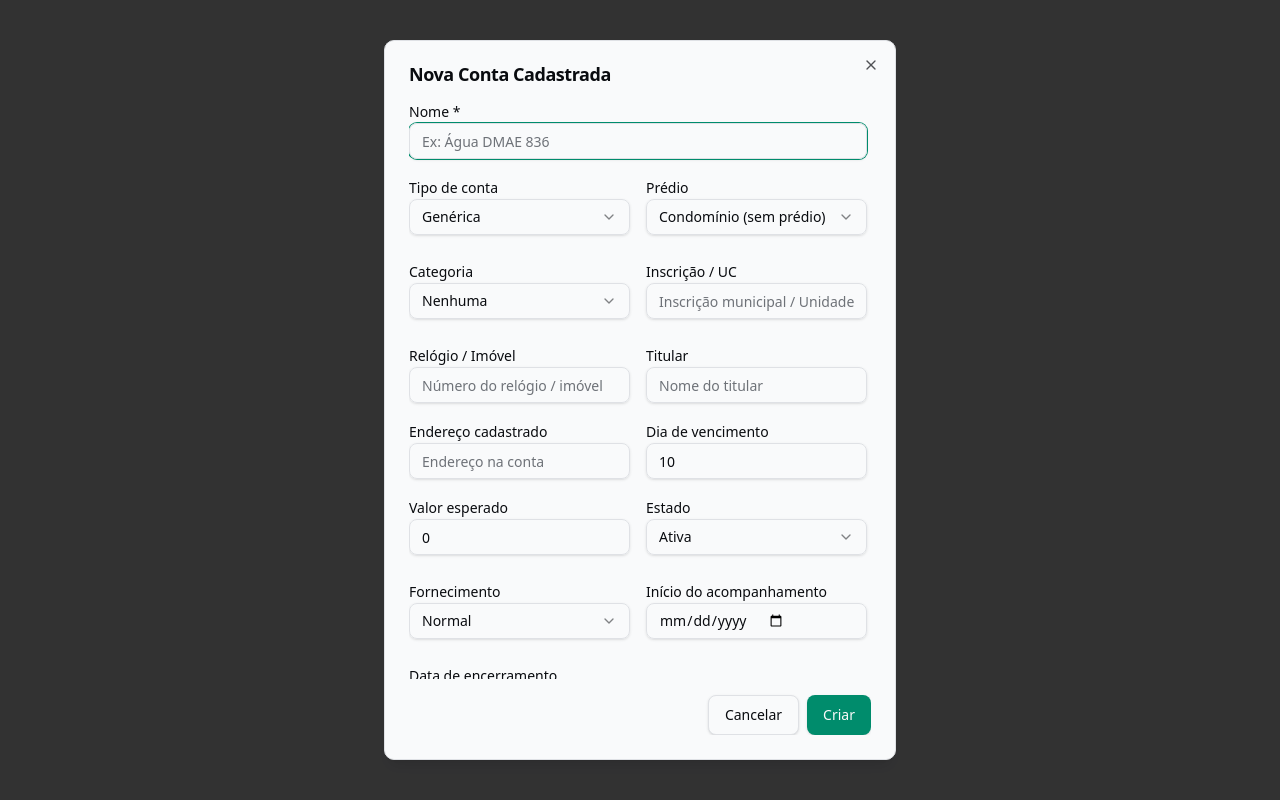
Test: AccountFormModal › rejeita external_identifier vazio para water/electricity/iptu com mensagem PT
Type "Água DMAE 836" into the field with placeholder "Ex: Água DMAE 836" at (638, 141), box [409, 123, 867, 159]
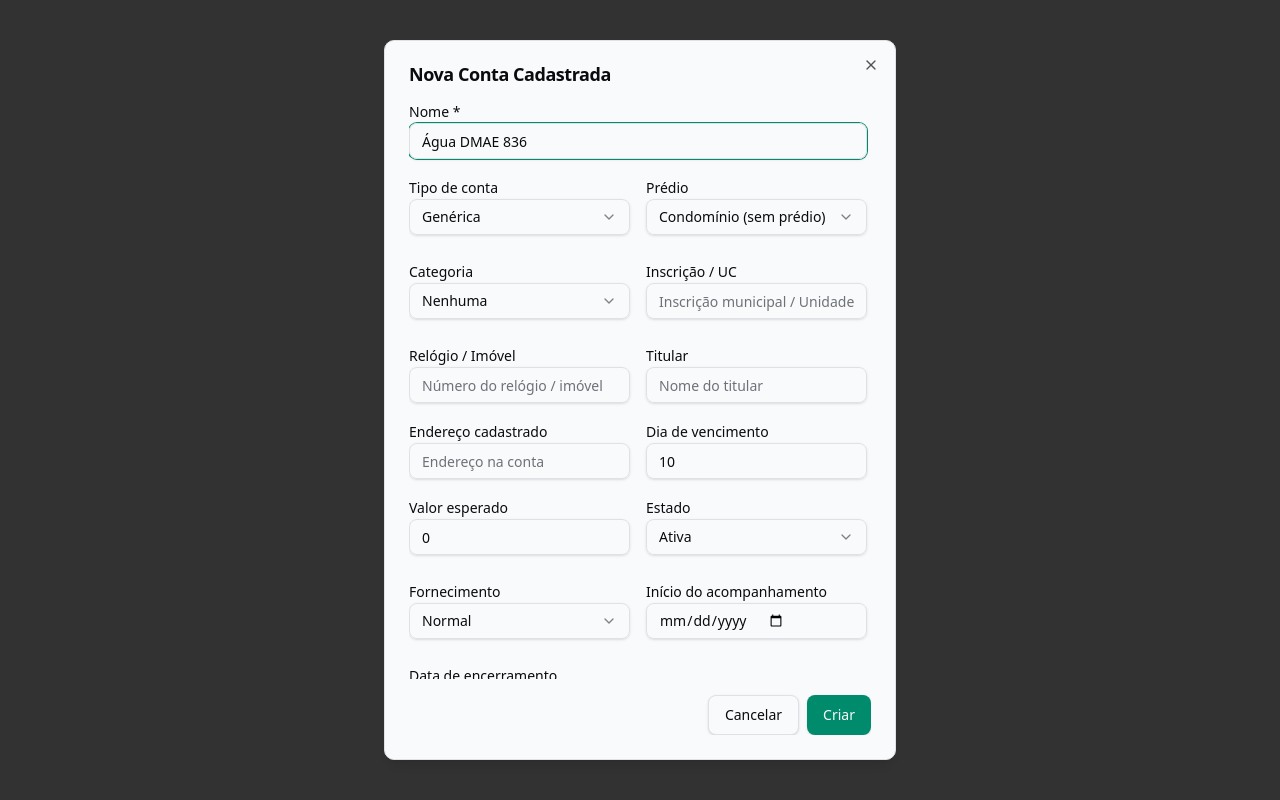
Click the dropdown named "Tipo de conta" at (520, 217), box [409, 199, 630, 235]
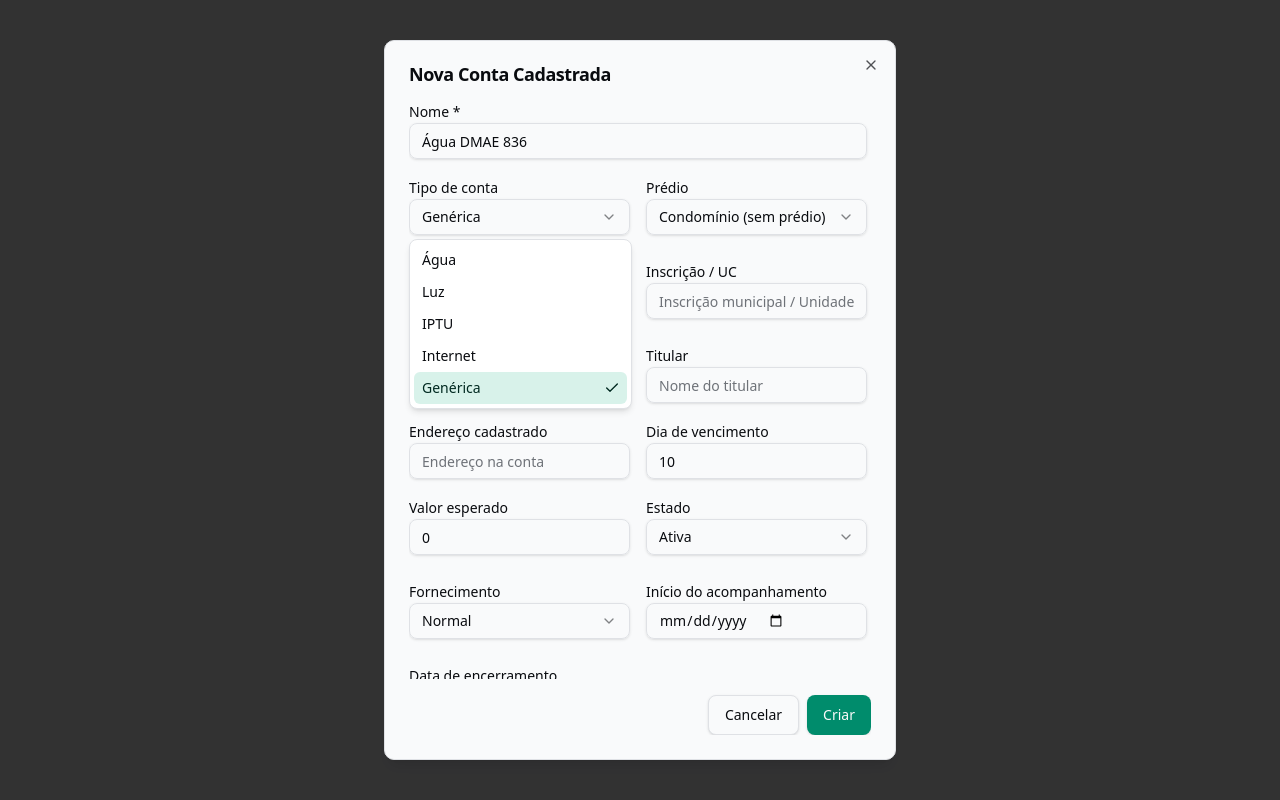
Click the option "Água" at (439, 260), box [422, 250, 456, 269]
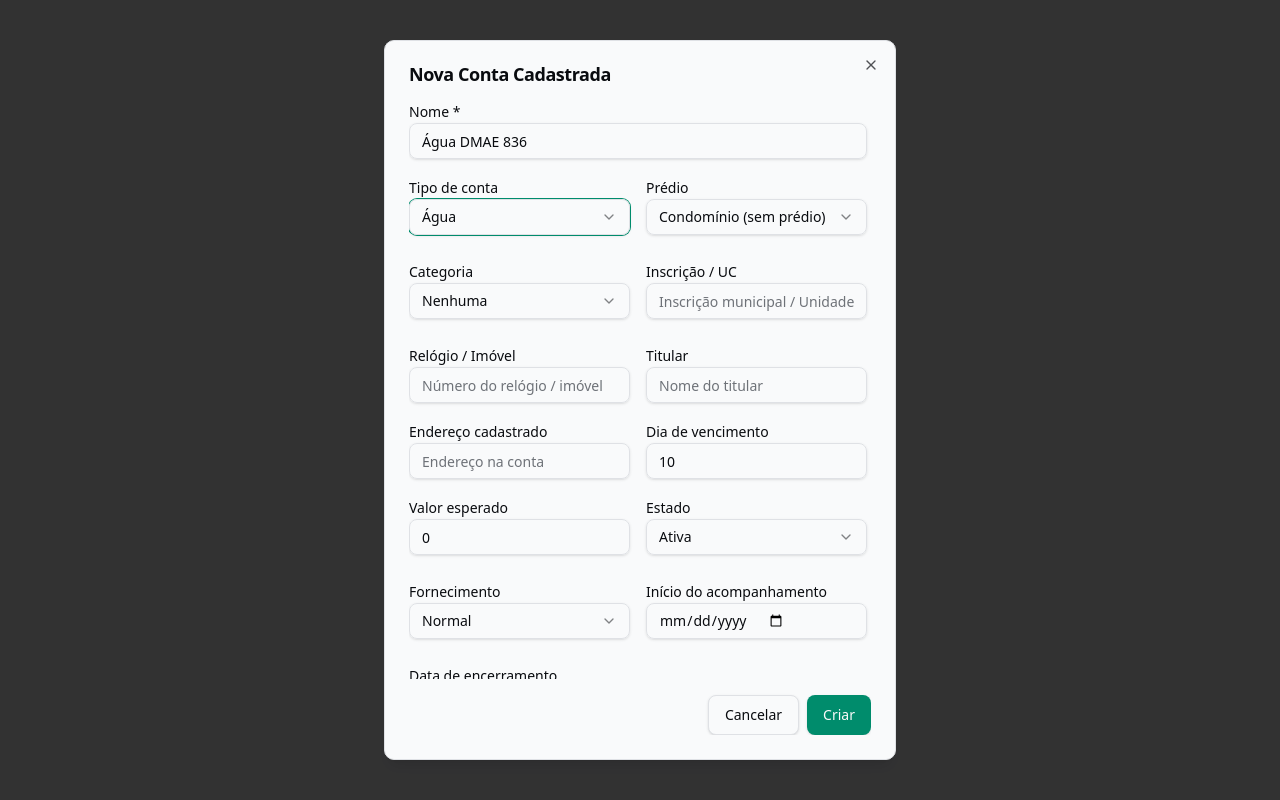
Click the button "Criar" at (839, 715), box [807, 695, 871, 735]
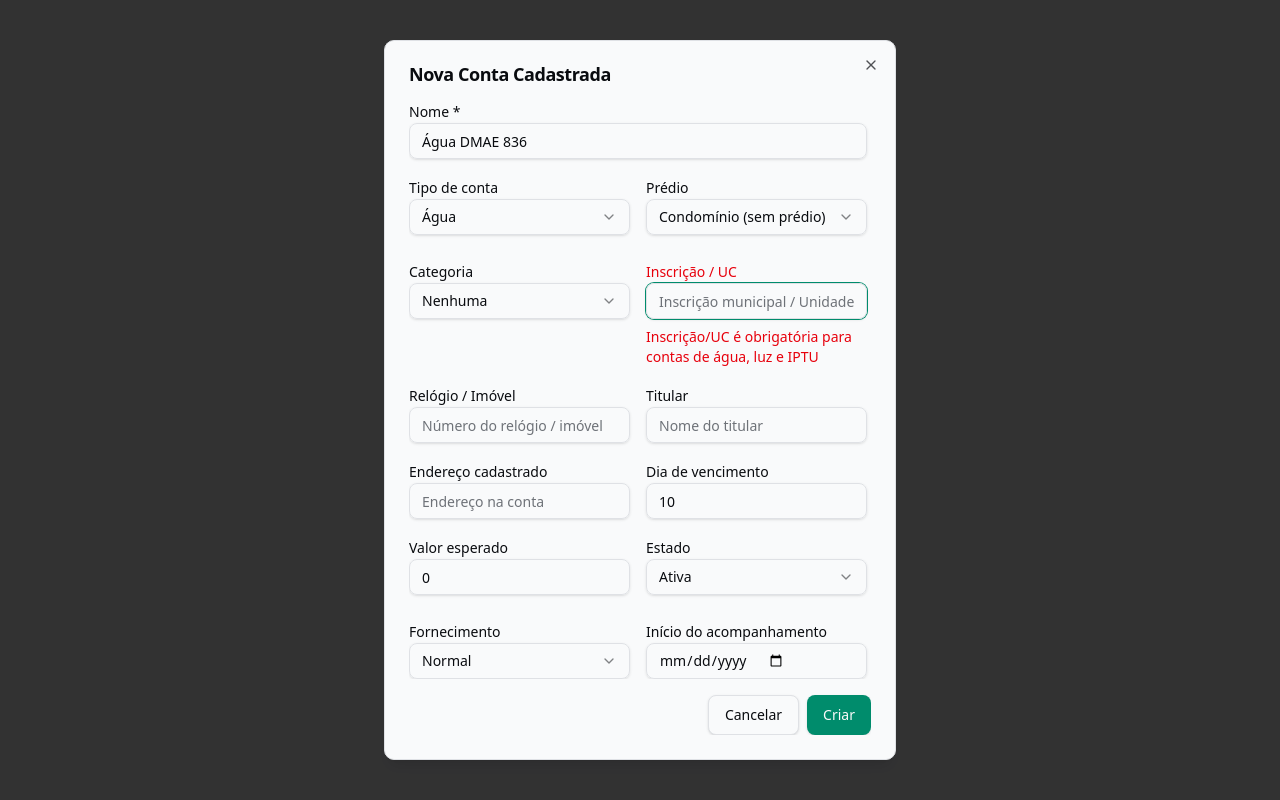
Result: the text "Inscrição/UC é obrigatória para contas de água, luz e IPTU" is shown at [646, 327, 867, 367]
